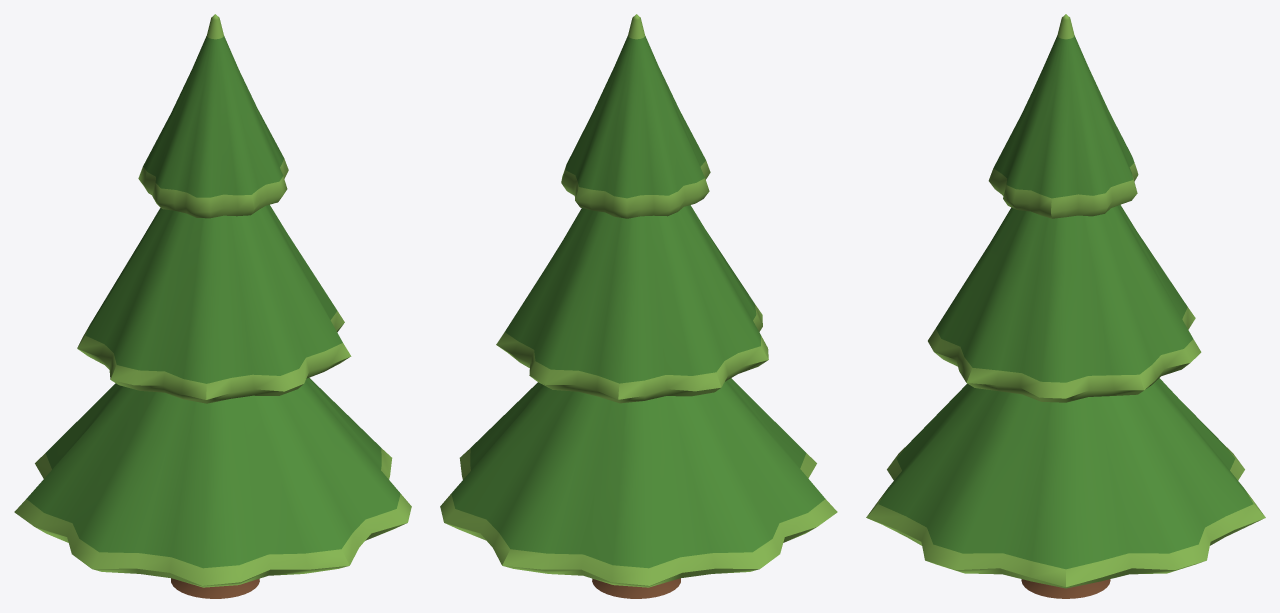
File: PineTree_07.glb
The picture shows the model from 3 angles, left to right: view 1: azimuth 30°, elevation 25°; view 2: azimuth 150°, elevation 25°; view 3: azimuth 270°, elevation 25°; orthographic projection.
Parts seen in each view (by area): view 1: PineTree_07; view 2: PineTree_07; view 3: PineTree_07.
Boxes of the visible parts, left/top/right/bottom form: PineTree_07: left=14, top=14, right=411, bottom=598; PineTree_07: left=440, top=14, right=837, bottom=598; PineTree_07: left=866, top=14, right=1265, bottom=598.
Bounding box in the file's own units: 5.06 × 8.07 × 5.17.
